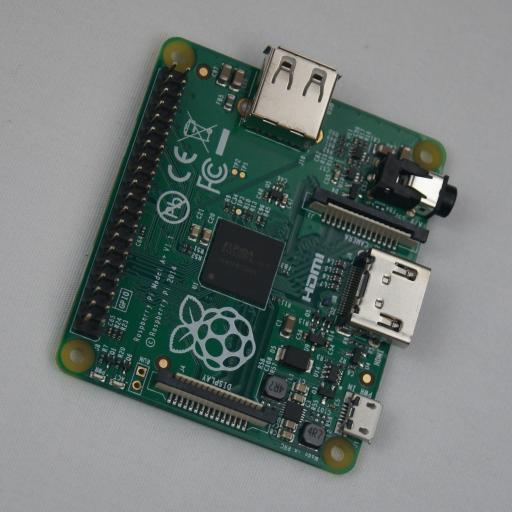Raspberry Pi A-: (55, 37, 457, 474)
